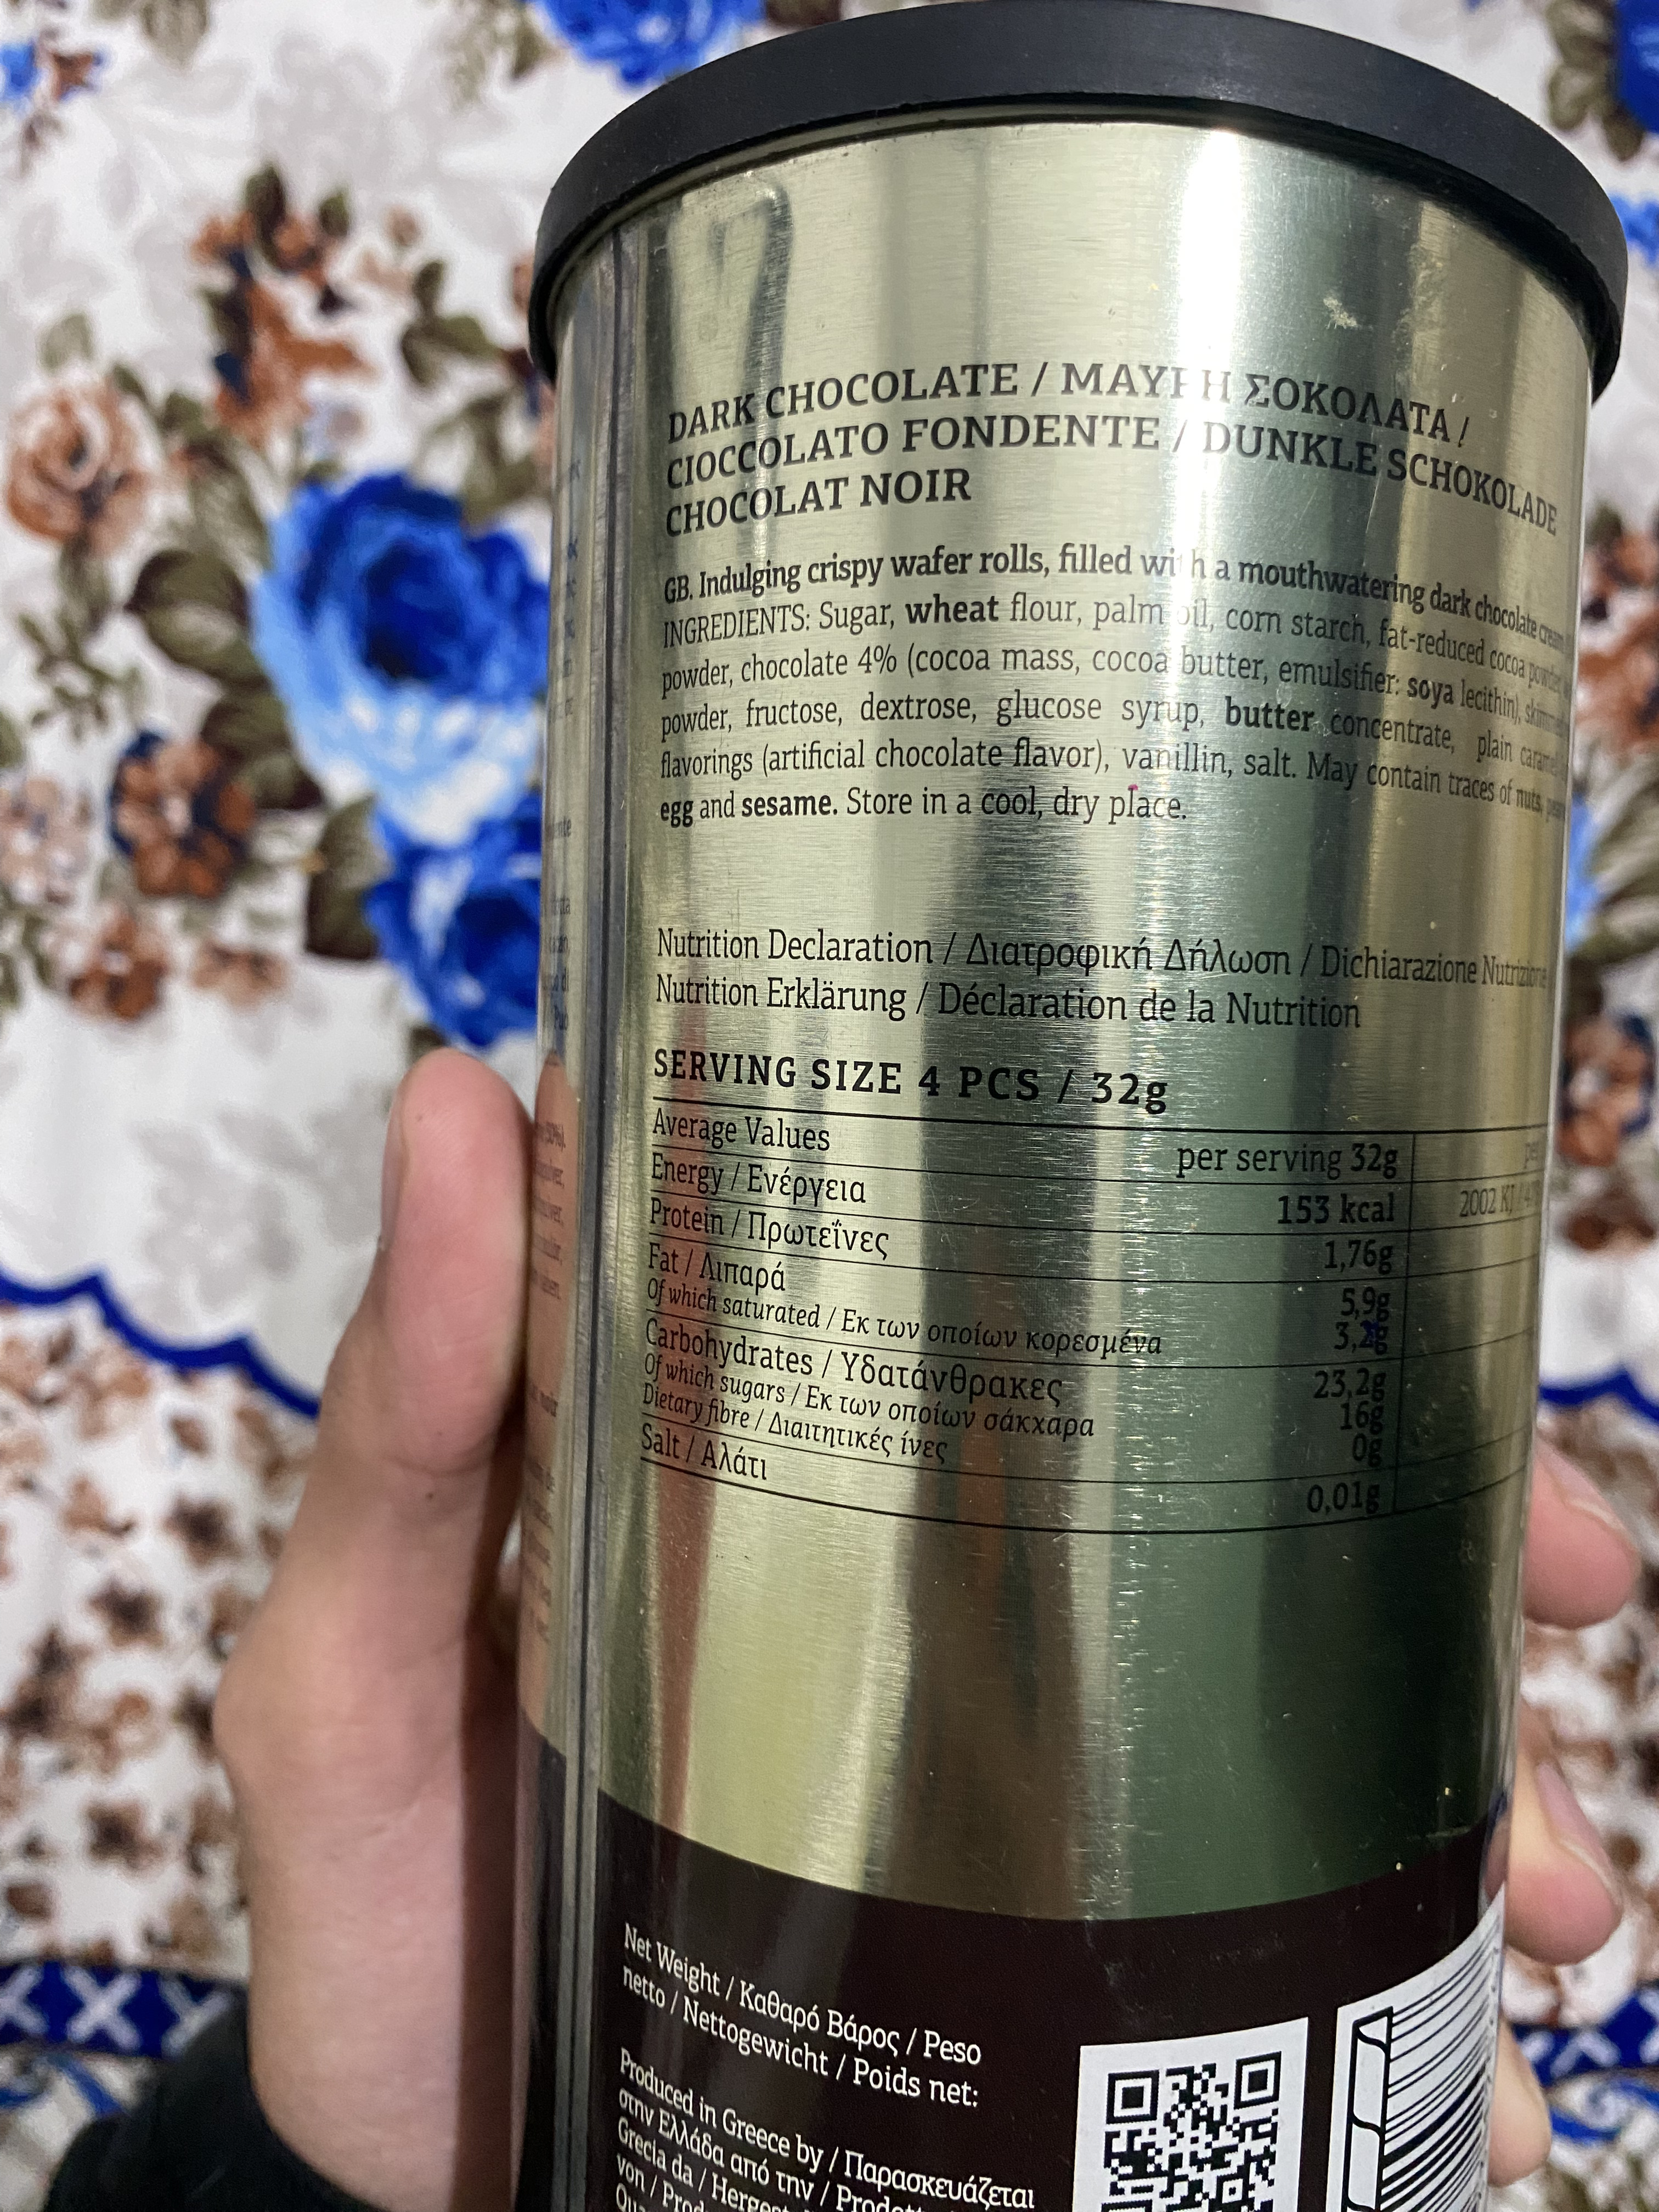table: (627, 1096, 1554, 1557)
